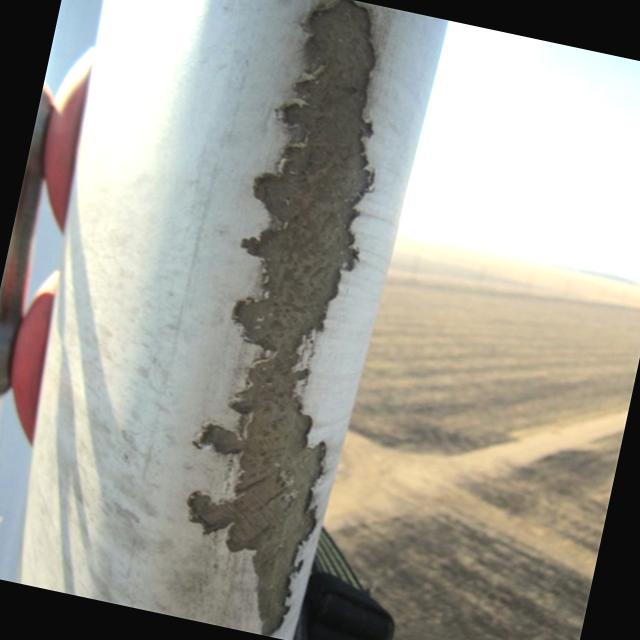corrosion: (167, 0, 424, 631)
